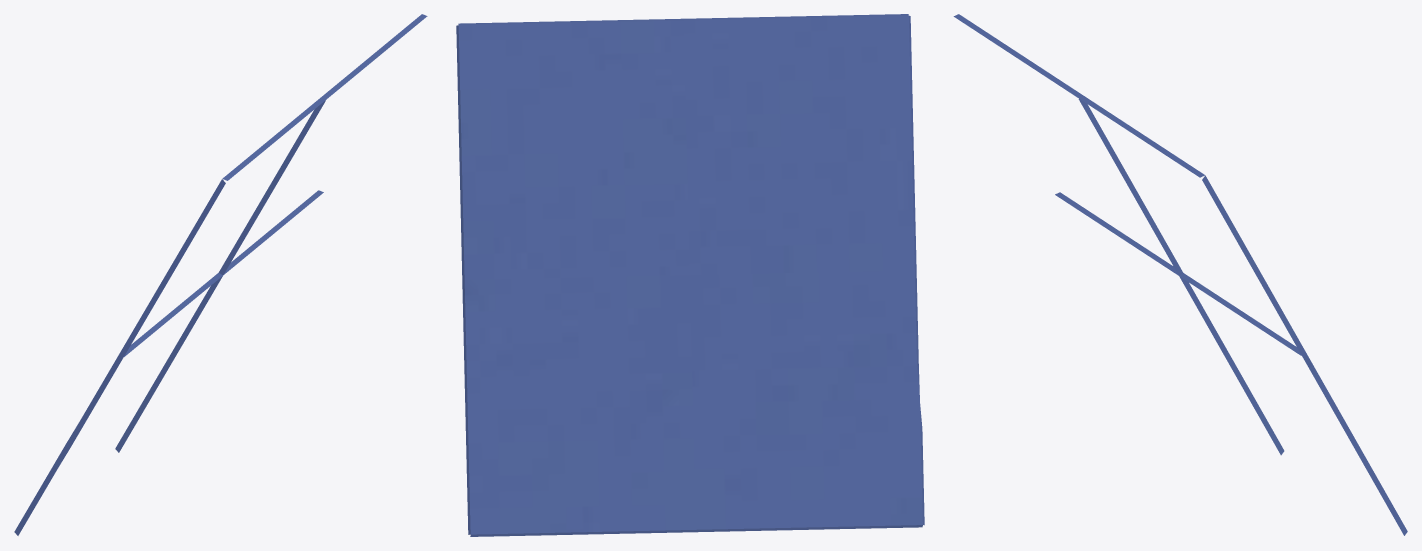
3 views of the same model, side by side, from view 1: azimuth 30°, elevation 25°; view 2: azimuth 150°, elevation 25°; view 3: azimuth 270°, elevation 25° (orthographic). The views are drawn at different scales.
Bounding box in the file's own units: 39567 × 34996 × 34675.
1 material, 1 textured.
